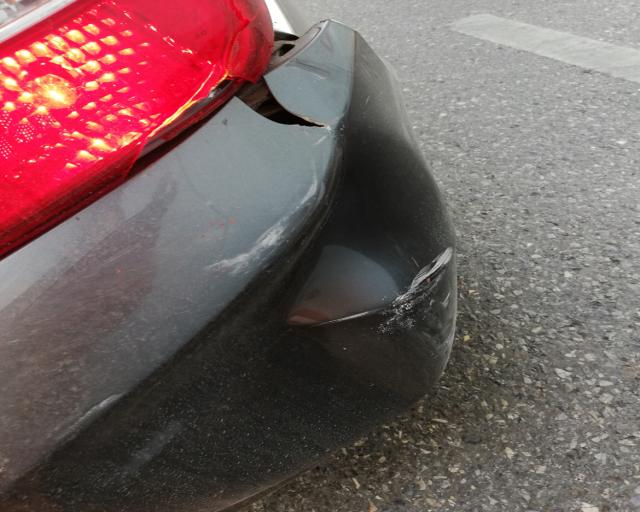crack: (237, 76, 332, 128)
scratch: (204, 168, 327, 279), (314, 243, 458, 330)
